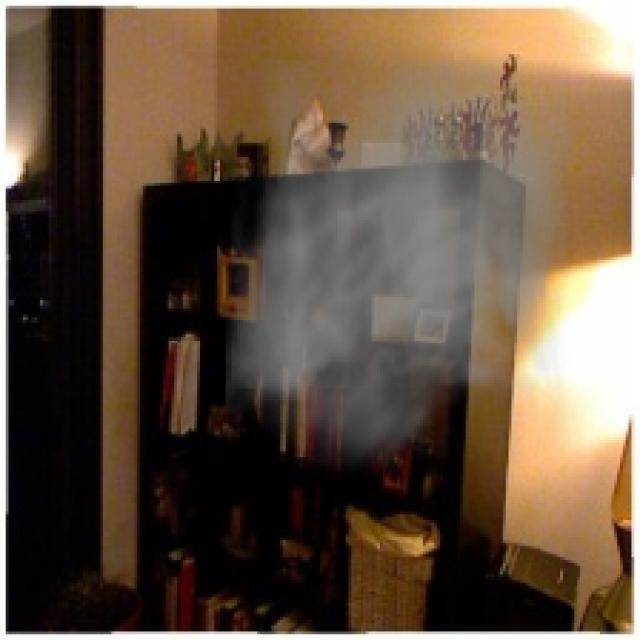Smoke: (226, 60, 572, 483)
